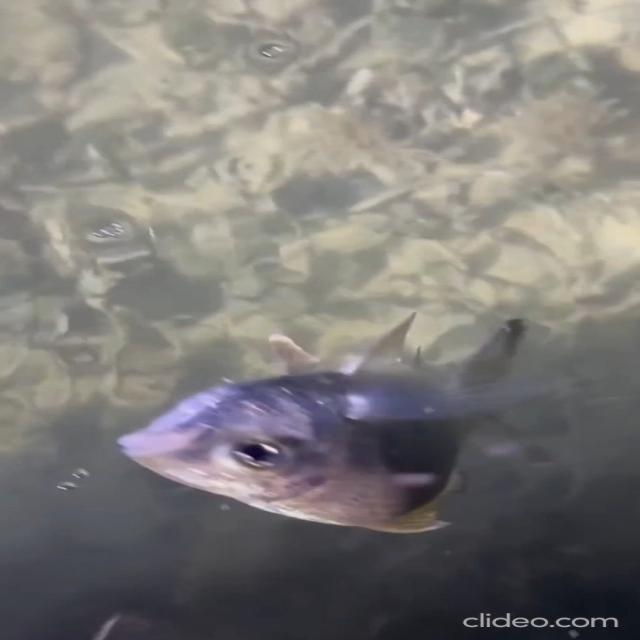fish: (122, 314, 590, 547)
